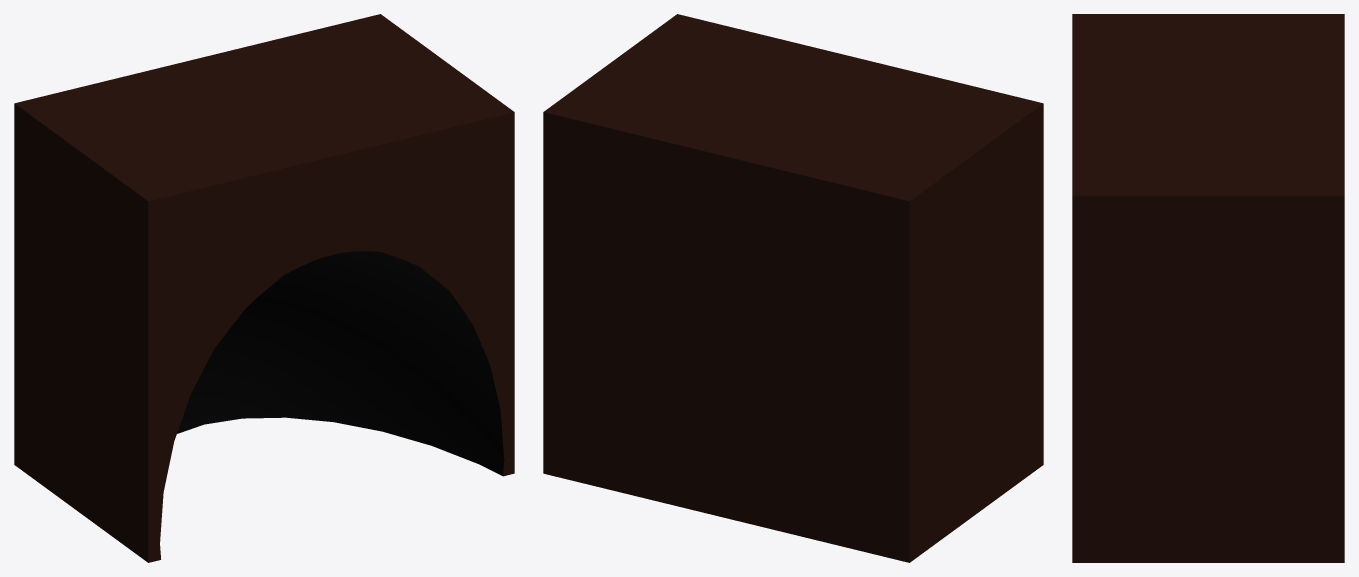
Rendered from hole.fbx.
3 views of the same model, side by side, from view 1: azimuth 30°, elevation 25°; view 2: azimuth 150°, elevation 25°; view 3: azimuth 270°, elevation 25° (orthographic).
Visible parts, largest first — view 1: Box347; view 2: Box347; view 3: Box347.
Part boxes in pixels (x1,y1,x2,y2): Box347: (14, 14, 514, 562); Box347: (543, 14, 1043, 562); Box347: (1072, 14, 1344, 562).
Size of the model in its own units: 136 by 129 by 86.42.
